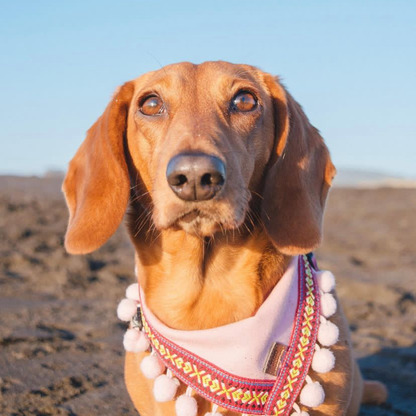dachshund: (49, 51, 382, 403)
